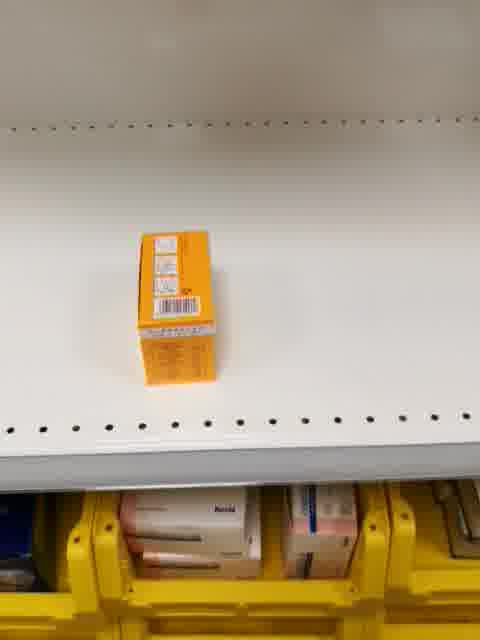jasminetea: (135, 230, 219, 387)
